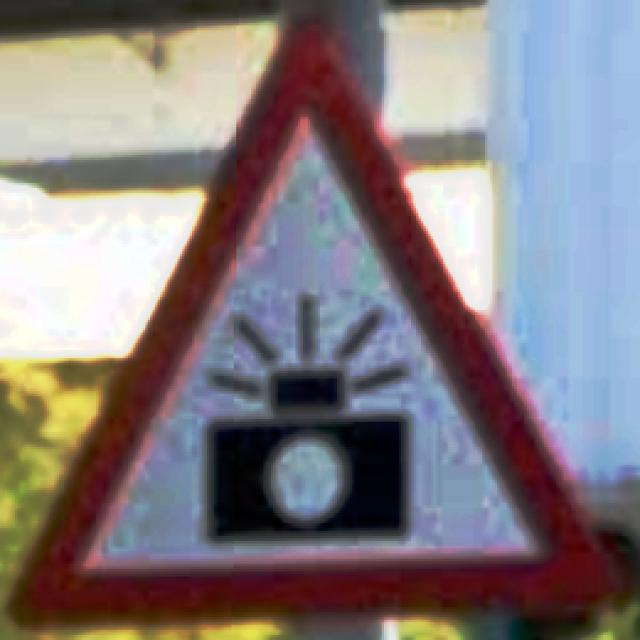speedcamera: (18, 17, 624, 621)
